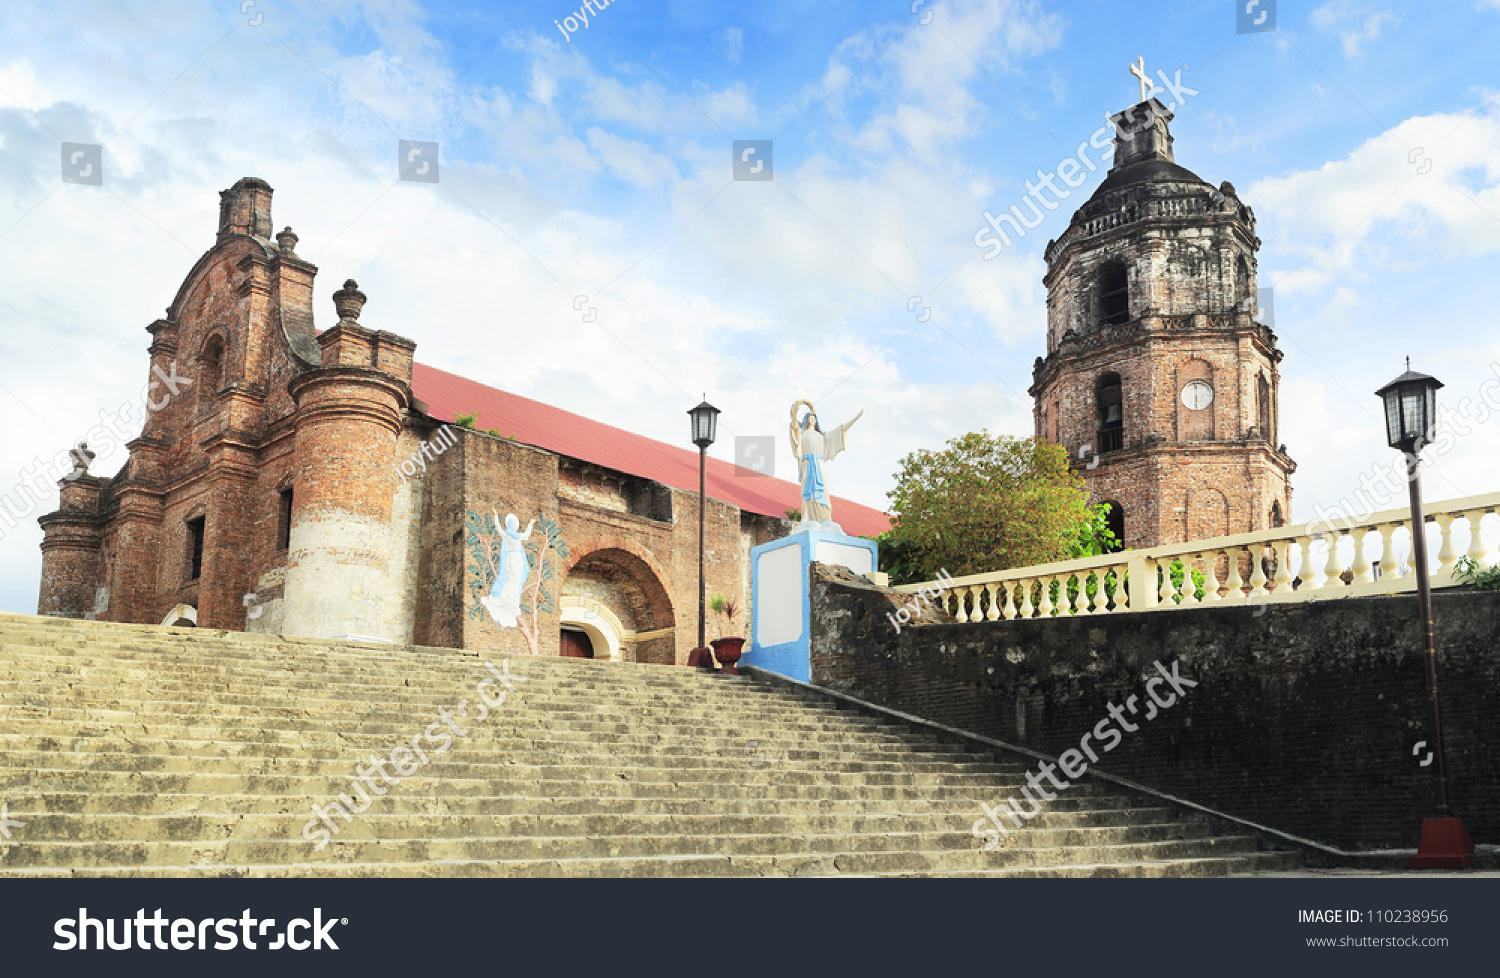santa_maria_church_santa_maria_ilocos_sur: (30, 169, 412, 656)
unfinished_paint: (243, 484, 417, 651)
